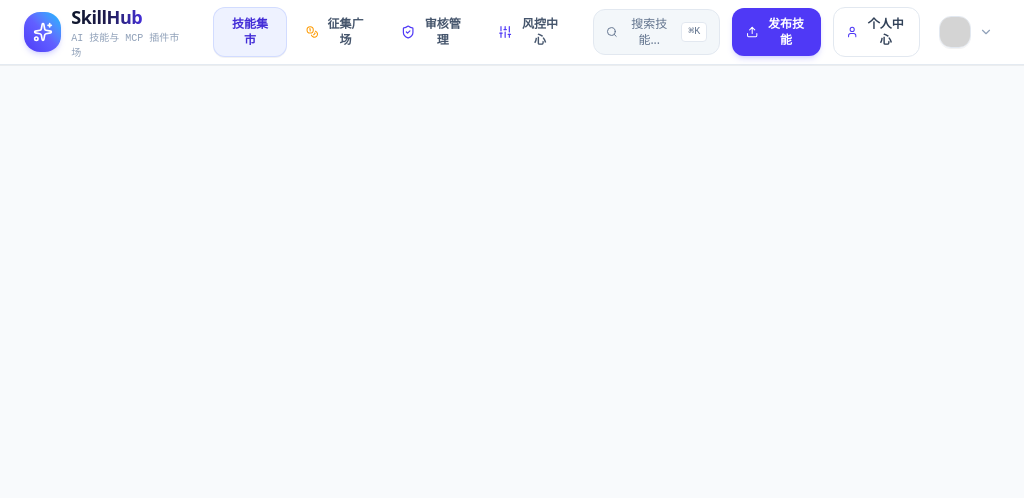
Test: Header 超级管理员 › 用户菜单包含 权限设置 / 建议管理 / 分类和专家组管理
The width and height of the screenshot is (1024, 498).
What coordinates should you click on to do the following:
click the button named "系统管理员"
I would click on:
 (966, 32)
Its box is [932, 9, 1000, 55].
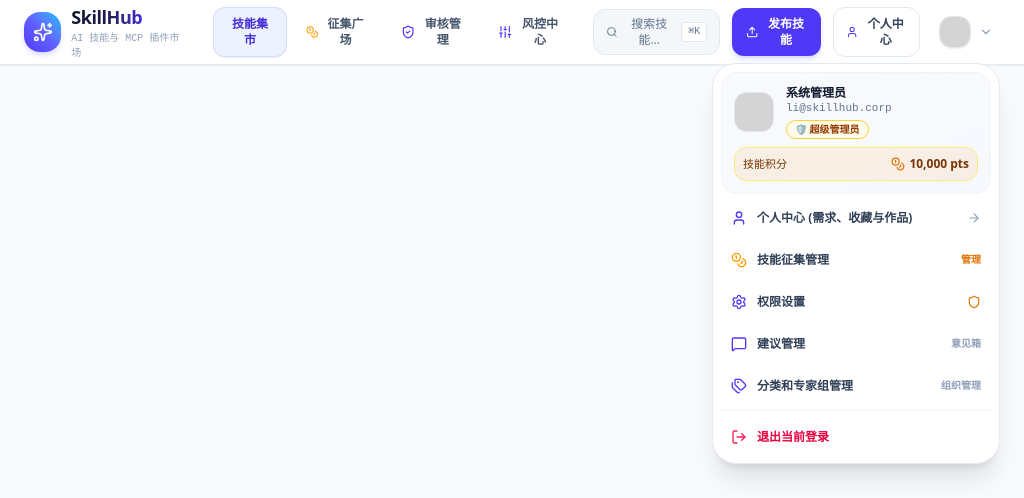
Expected: the text "权限设置" is shown, [757, 294, 805, 310]
Expected: the text "建议管理" is shown, [757, 336, 805, 352]
Expected: the text "分类和专家组管理" is shown, [757, 378, 853, 394]
